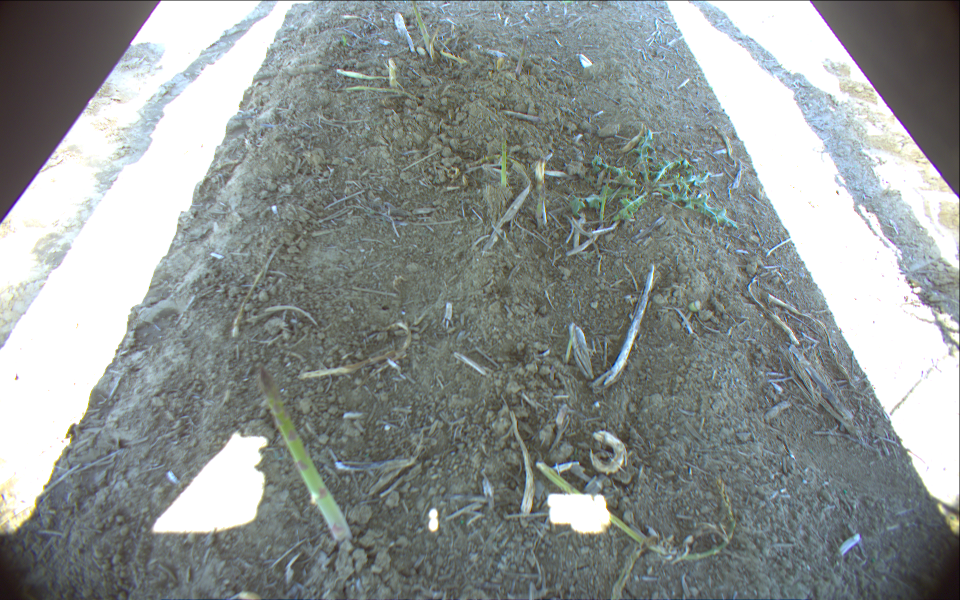aspa: (251, 367, 352, 548), (408, 1, 439, 58)
